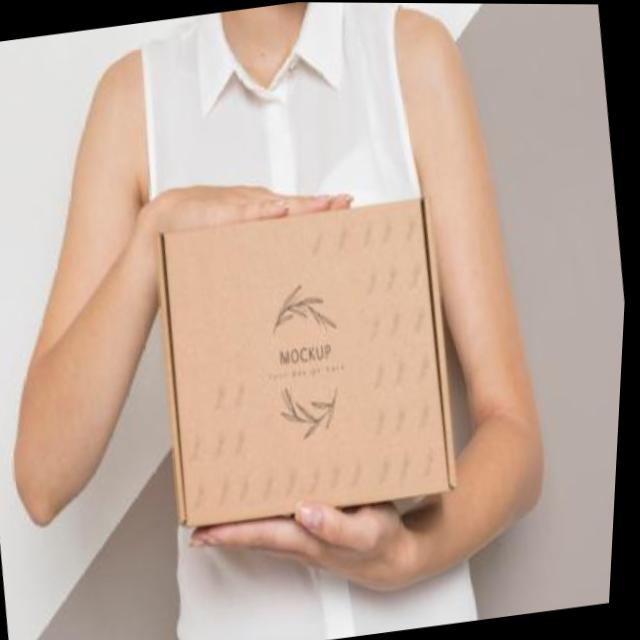box: (130, 159, 505, 567)
